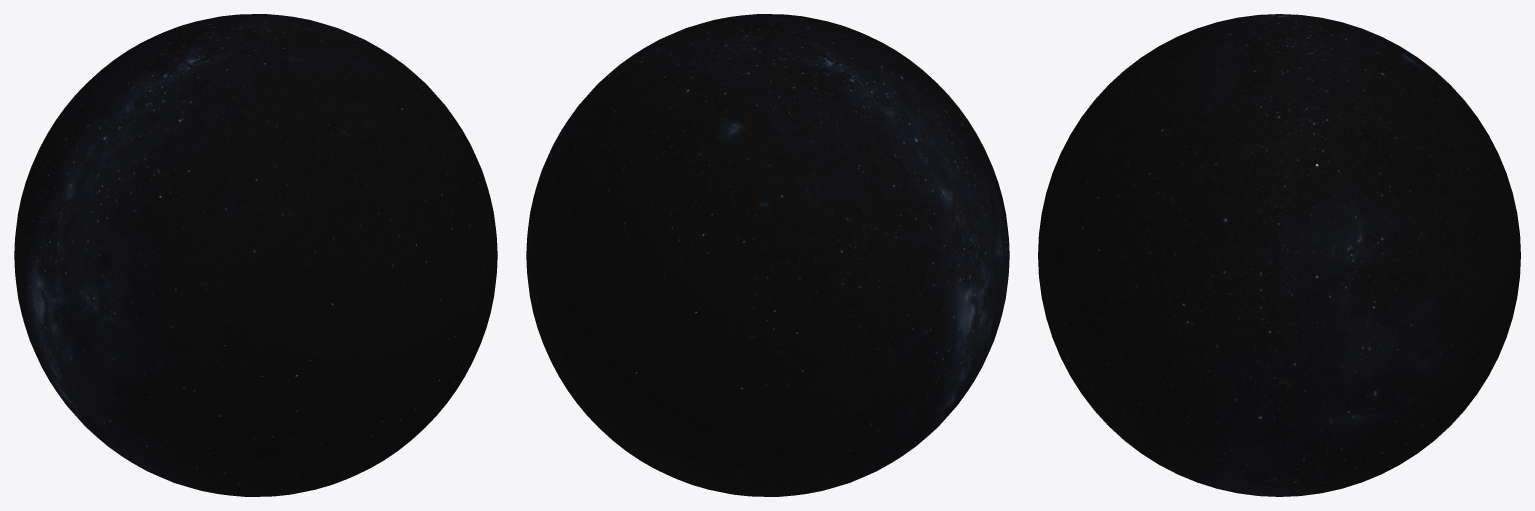
The model's file is celestial_skydome.glb.
3 views of the same model, side by side, from view 1: azimuth 30°, elevation 25°; view 2: azimuth 150°, elevation 25°; view 3: azimuth 270°, elevation 25° (orthographic).
Visible parts, largest first — view 1: SkyDomeNode; view 2: SkyDomeNode; view 3: SkyDomeNode.
Part boxes in pixels (x1,y1,x2,y2): SkyDomeNode: (14, 14, 497, 496); SkyDomeNode: (526, 14, 1009, 496); SkyDomeNode: (1038, 14, 1520, 496).
Size of the model in its own units: 16000 by 16000 by 16000.
1 material, 1 textured.
